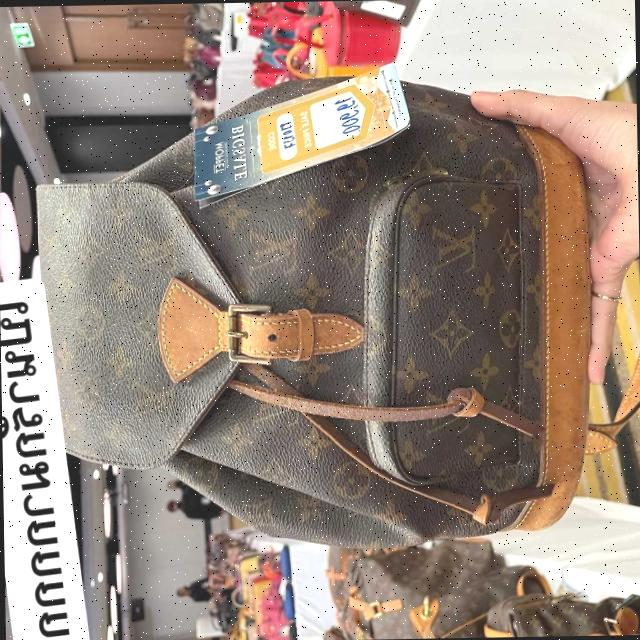Handbag: (30, 71, 592, 559)
